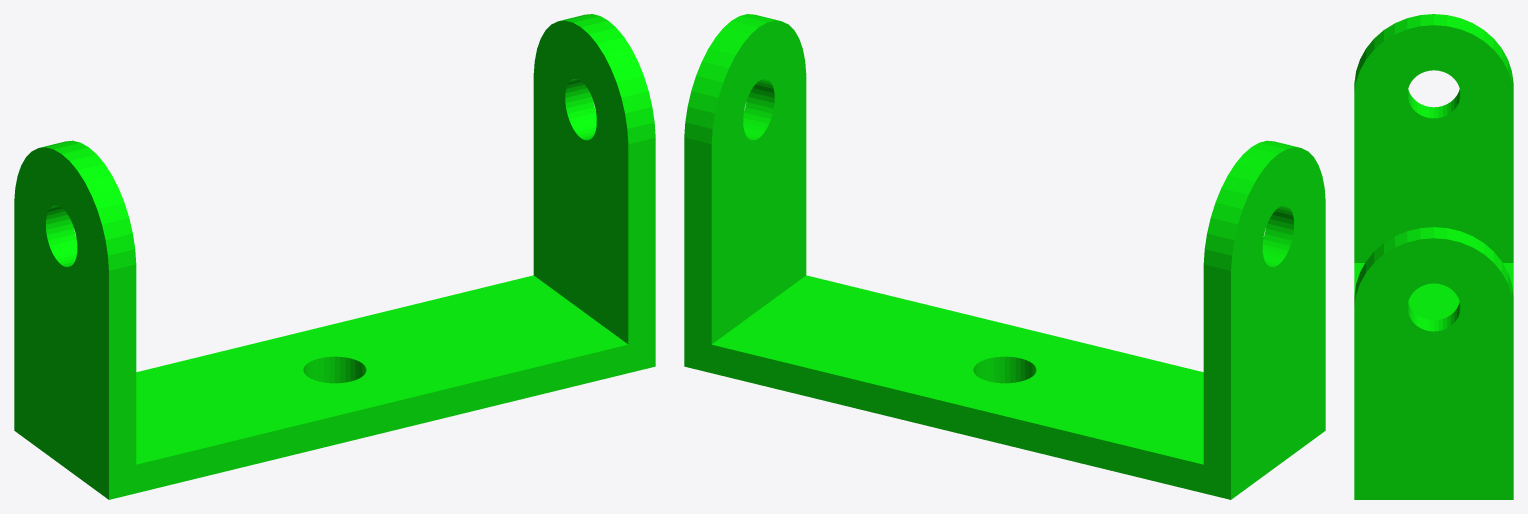
File: Wrist4.dae
3 renders of one model, left to right at view 1: azimuth 30°, elevation 25°; view 2: azimuth 150°, elevation 25°; view 3: azimuth 270°, elevation 25°, orthographic. The views are drawn at different scales.
Parts seen in each view (by area): view 1: M4; view 2: M4; view 3: M4.
Boxes of the visible parts, x1,y1,x2,y2 form: M4: (14,14,655,499); M4: (684,14,1325,499); M4: (1354,14,1513,499).
Bounding box in the file's own units: 0.1 × 0.03 × 0.0544.
